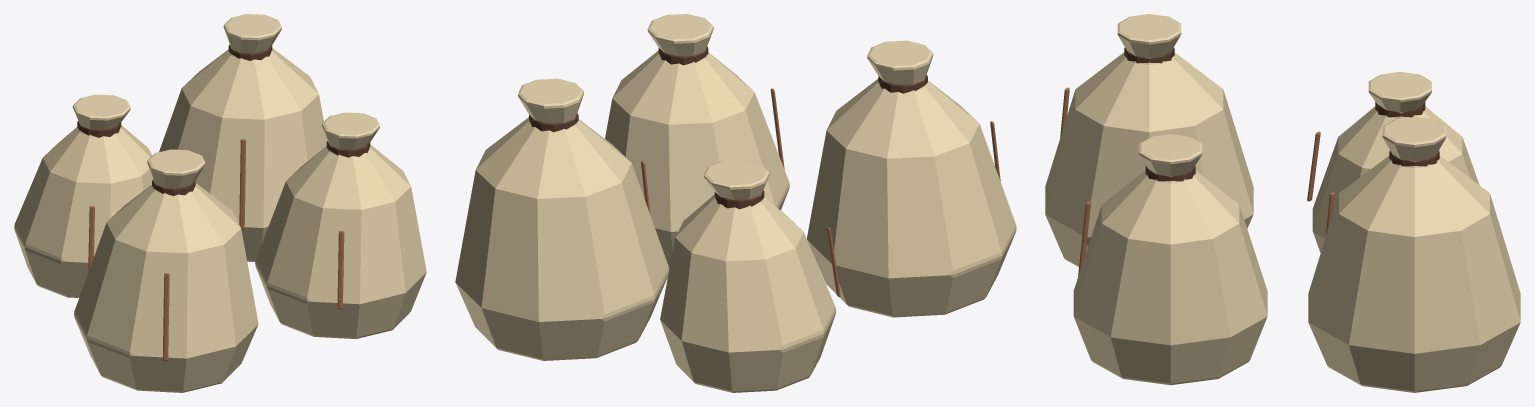
The model's file is cargo_sacks.glb.
The picture shows the model from 3 angles, left to right: view 1: azimuth 30°, elevation 25°; view 2: azimuth 150°, elevation 25°; view 3: azimuth 270°, elevation 25°; orthographic projection. The views are drawn at different scales.
Visible parts, largest first — view 1: cargo_sacks__structure, cargo_sacks__attachments; view 2: cargo_sacks__structure, cargo_sacks__attachments; view 3: cargo_sacks__structure, cargo_sacks__attachments.
Boxes of the visible parts, x1,y1,x2,y2 form: cargo_sacks__structure: [14, 14, 426, 392]; cargo_sacks__attachments: [77, 44, 370, 360]; cargo_sacks__structure: [455, 14, 1016, 392]; cargo_sacks__attachments: [529, 46, 1000, 296]; cargo_sacks__structure: [1045, 14, 1520, 392]; cargo_sacks__attachments: [1060, 47, 1439, 276].
Bounding box in the file's own units: 1.32 × 0.73 × 1.35.
